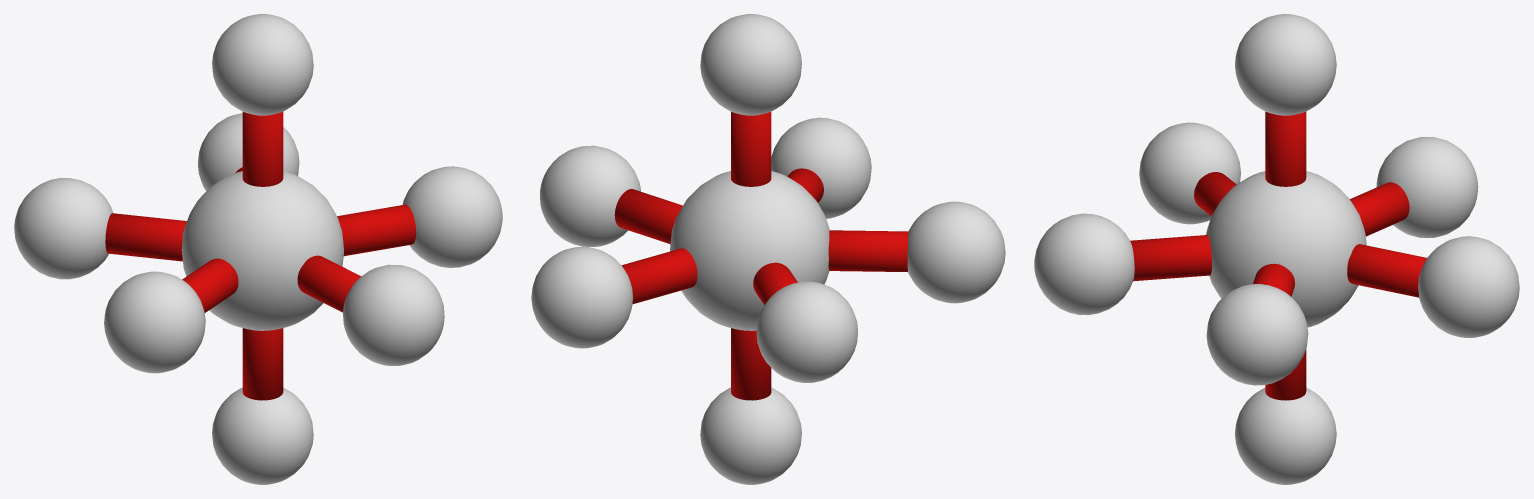
The picture shows the model from 3 angles, left to right: view 1: azimuth 30°, elevation 25°; view 2: azimuth 150°, elevation 25°; view 3: azimuth 270°, elevation 25°; orthographic projection.
Visible parts, largest first — view 1: Sphere, H.006, H, H.002, H.005, H.001, H.004, bond.005, H.003, bond.001, bond, bond.004 (+2 smaller); view 2: Sphere, H.003, H, H.005, H.006, H.004, H.001, H.002, bond.006, bond, bond.003, bond.001 (+3 smaller); view 3: Sphere, H, H.003, H.001, H.002, H.004, H.005, H.006, bond.002, bond.003, bond, bond.005 (+3 smaller).
Boxes of the visible parts, left/top/right/bottom form: Sphere: left=181, top=171, right=343, bottom=330; H.006: left=104, top=271, right=205, bottom=373; H: left=212, top=14, right=313, bottom=115; H.002: left=343, top=264, right=444, bottom=365; H.005: left=14, top=178, right=113, bottom=279; H.001: left=402, top=166, right=502, bottom=267; H.004: left=212, top=387, right=313, bottom=484; bond.005: left=105, top=213, right=186, bottom=261; H.003: left=198, top=113, right=299, bottom=191; bond.001: left=337, top=204, right=416, bottom=256; bond: left=242, top=111, right=283, bottom=186; bond.004: left=242, top=328, right=283, bottom=400; Sphere: left=670, top=171, right=829, bottom=330; H.003: left=531, top=246, right=633, bottom=348; H: left=700, top=14, right=801, bottom=115; H.005: left=756, top=281, right=857, bottom=382; H.006: left=907, top=201, right=1005, bottom=303; H.004: left=700, top=387, right=801, bottom=484; H.001: left=540, top=145, right=640, bottom=247; H.002: left=771, top=117, right=871, bottom=218; bond.006: left=828, top=230, right=908, bottom=271; bond: left=731, top=111, right=771, bottom=186; bond.003: left=622, top=248, right=697, bottom=304; bond.001: left=614, top=189, right=682, bottom=243; Sphere: left=1206, top=171, right=1366, bottom=327; H: left=1235, top=14, right=1336, bottom=115; H.003: left=1418, top=236, right=1519, bottom=337; H.001: left=1206, top=284, right=1308, bottom=385; H.002: left=1034, top=213, right=1134, bottom=315; H.004: left=1235, top=387, right=1336, bottom=484; H.005: left=1376, top=137, right=1478, bottom=238; H.006: left=1139, top=122, right=1240, bottom=224; bond.002: left=1130, top=235, right=1211, bottom=281; bond.003: left=1347, top=244, right=1426, bottom=297; bond: left=1265, top=111, right=1306, bottom=186; bond.005: left=1350, top=182, right=1409, bottom=236.
Size of the model in its own units: 474 by 500 by 477.
